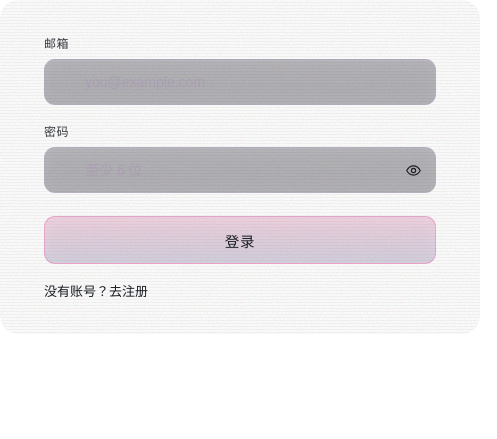
Test case: AccountAuthCard › 默认登录模式，可切到注册
Expected: the button "登录" is shown, [44,216,436,264]
Click the button "没有账号？去注册". click: (96, 290)
box: [44,281,148,300]
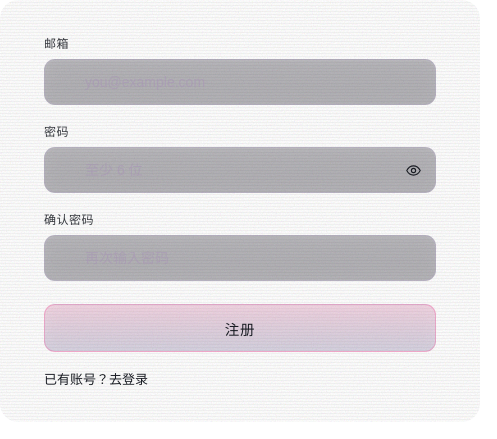
Expected: the button "注册" is shown, [44,304,436,352]
Expected: the button "已有账号？去登录" is shown, [44,369,148,388]
